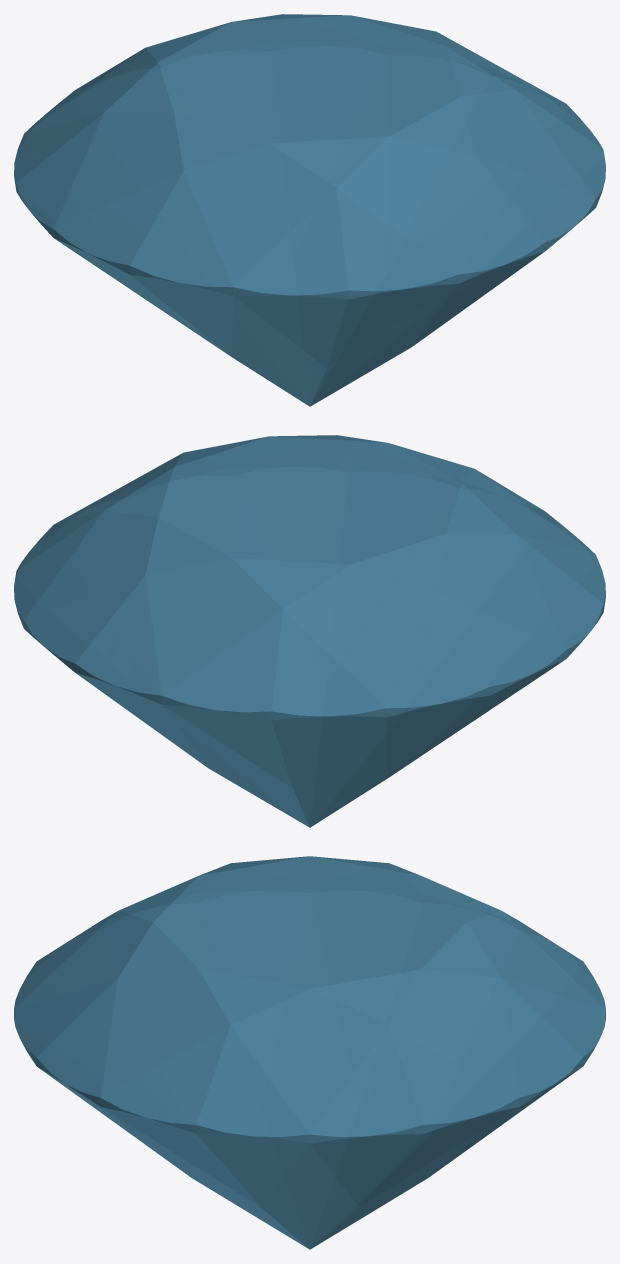
File: gemstone_test.glb
The picture shows the model from 3 angles, top to bottom: view 1: azimuth 30°, elevation 25°; view 2: azimuth 150°, elevation 25°; view 3: azimuth 270°, elevation 25°; orthographic projection.
Parts seen in each view (by area): view 1: defaultMaterial; view 2: defaultMaterial; view 3: defaultMaterial.
Part boxes in pixels (left/top/right/bottom): defaultMaterial: left=14, top=14, right=605, bottom=406; defaultMaterial: left=14, top=435, right=605, bottom=827; defaultMaterial: left=14, top=856, right=605, bottom=1249.
Size of the model in its own units: 200 by 122 by 200.
Materials: 1 (1 with a texture image).
